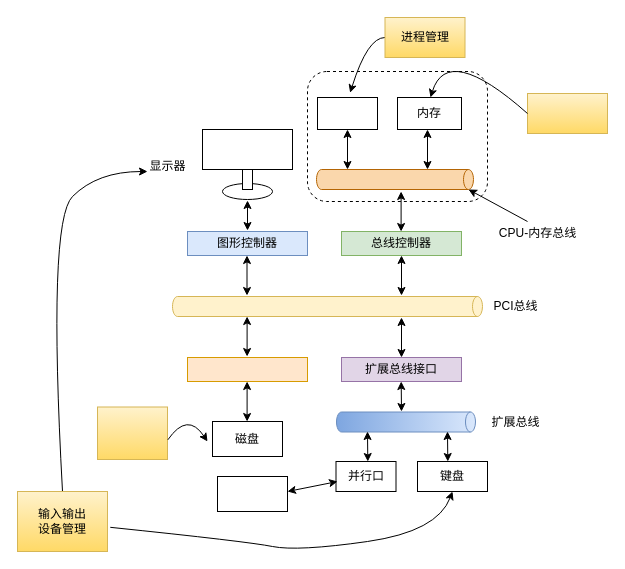
This 625x569 diagram has some shape labels left out. Each missing label, with the centre of its shape:
CPU: point (347, 113)
IDE控制器: point (247, 369)
内存管理: point (567, 113)
打印机: point (252, 494)
文件系统 管理: point (132, 433)
